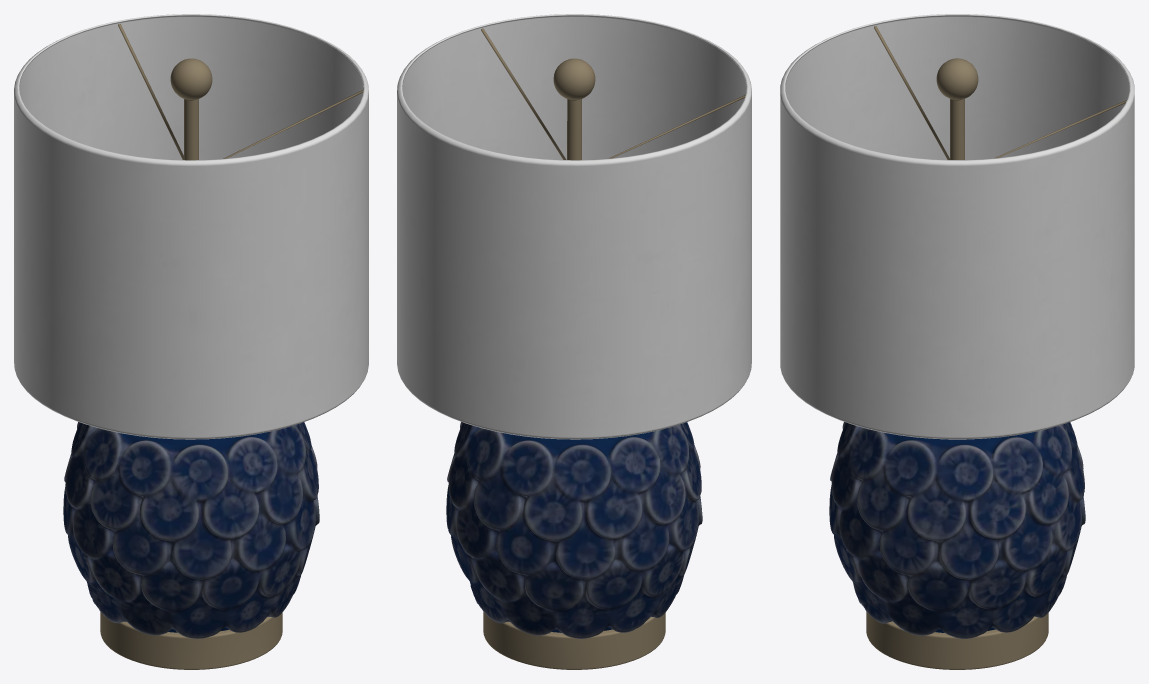
File: abo-B0825CZCLB.glb
The picture shows the model from 3 angles, left to right: view 1: azimuth 30°, elevation 25°; view 2: azimuth 150°, elevation 25°; view 3: azimuth 270°, elevation 25°; orthographic projection.
Size of the model in its own units: 0.254 by 0.452 by 0.254.
Materials: 1 (1 with a texture image).
